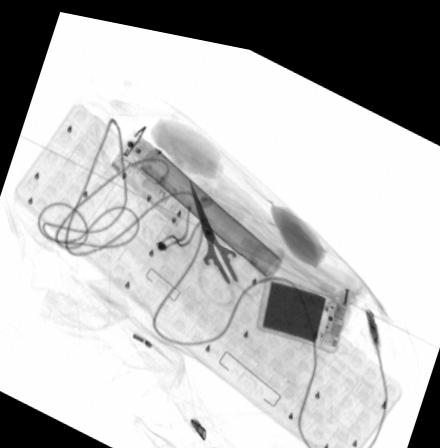Powerbank: (254, 258, 347, 342)
Scissors: (186, 168, 266, 297)
